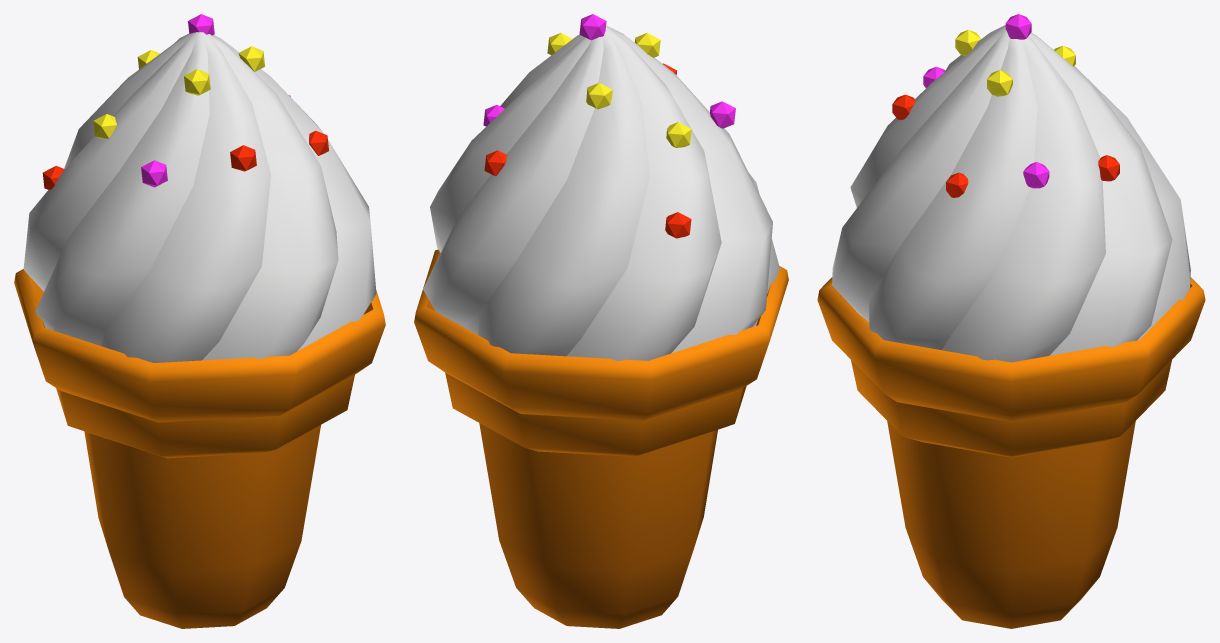
File: Collectable_Icecream_01.fbx
The picture shows the model from 3 angles, left to right: view 1: azimuth 30°, elevation 25°; view 2: azimuth 150°, elevation 25°; view 3: azimuth 270°, elevation 25°; orthographic projection.
Visible parts, largest first — view 1: Collectable_Icecream_01; view 2: Collectable_Icecream_01; view 3: Collectable_Icecream_01.
Part boxes in pixels (x1,y1,x2,y2): Collectable_Icecream_01: (14,14,385,628); Collectable_Icecream_01: (414,14,788,628); Collectable_Icecream_01: (817,14,1205,628).
Bounding box in the file's own units: 42.38 × 72.11 × 42.38.
1 material, 1 textured.
